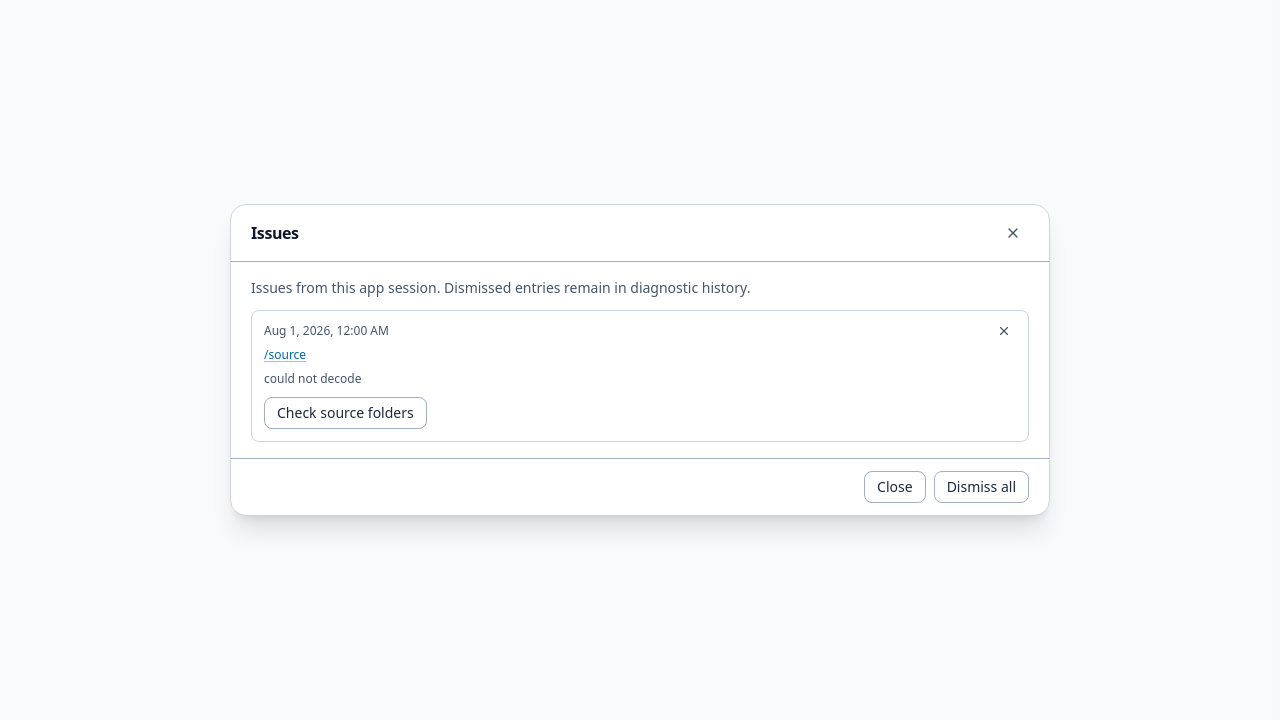
Test case: the issues modal › offers source checking beside a failed watcher recovery without dismissing the Issue
The width and height of the screenshot is (1280, 720).
Click the button "Check source folders" at (345, 413), box [264,397,427,429]
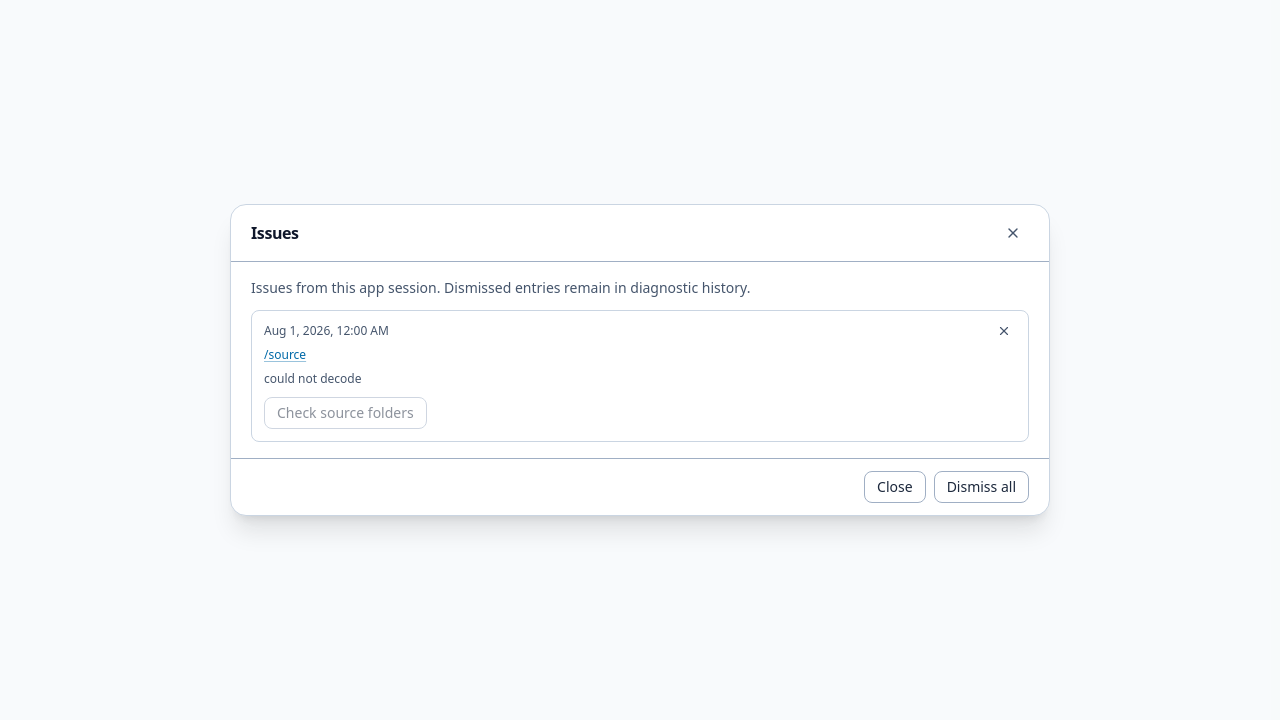
Check: the button "Check source folders" is disabled, box [264,397,427,429]
